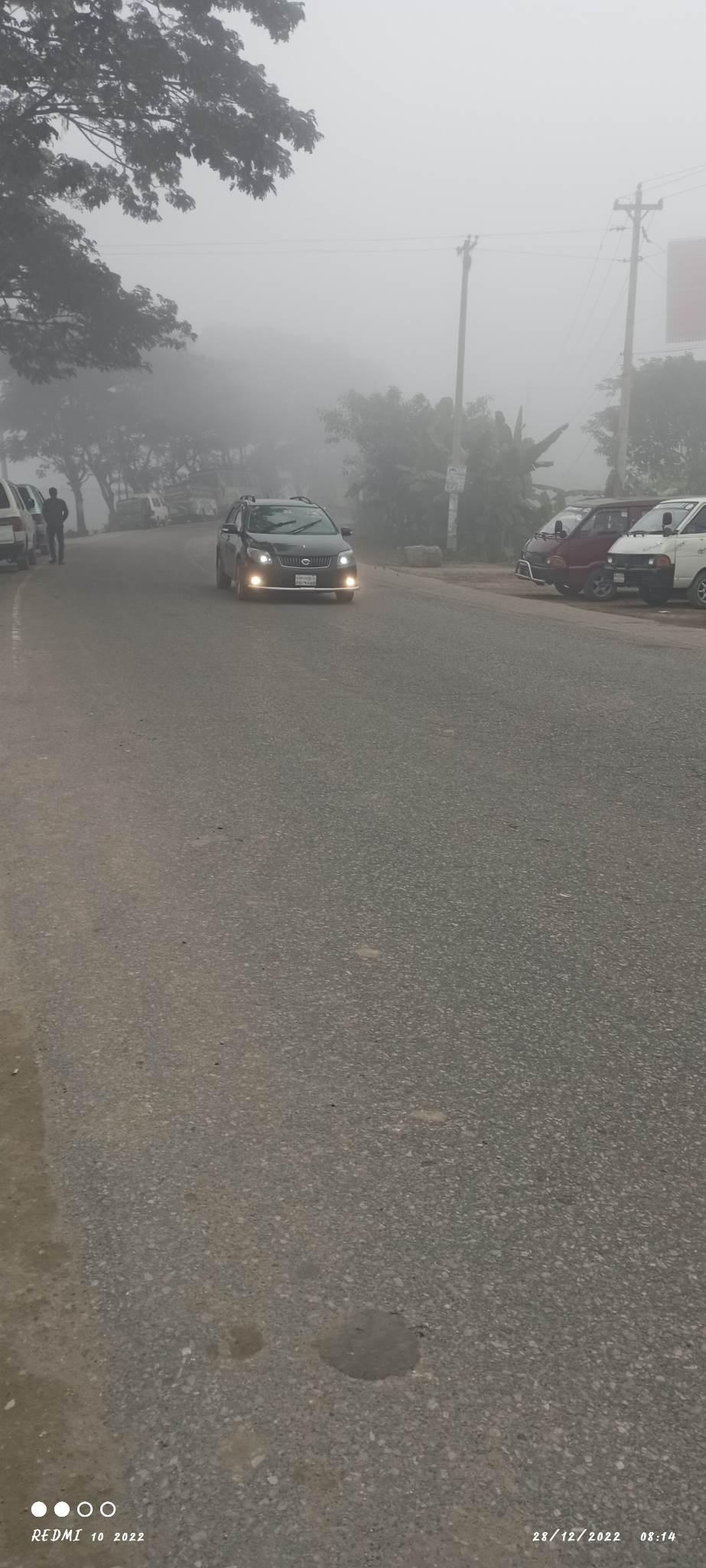Car: (205, 481, 382, 611), (511, 468, 654, 603), (613, 469, 706, 642)
